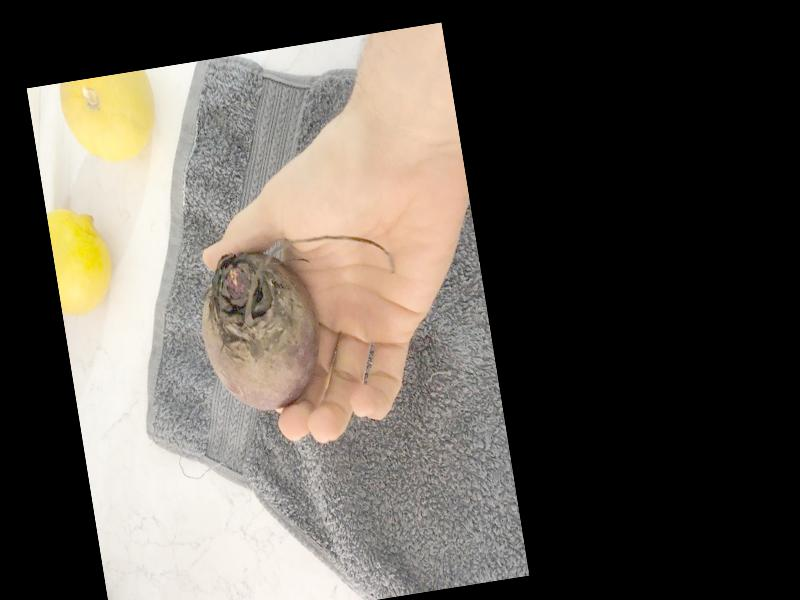Beet: (190, 229, 413, 421)
